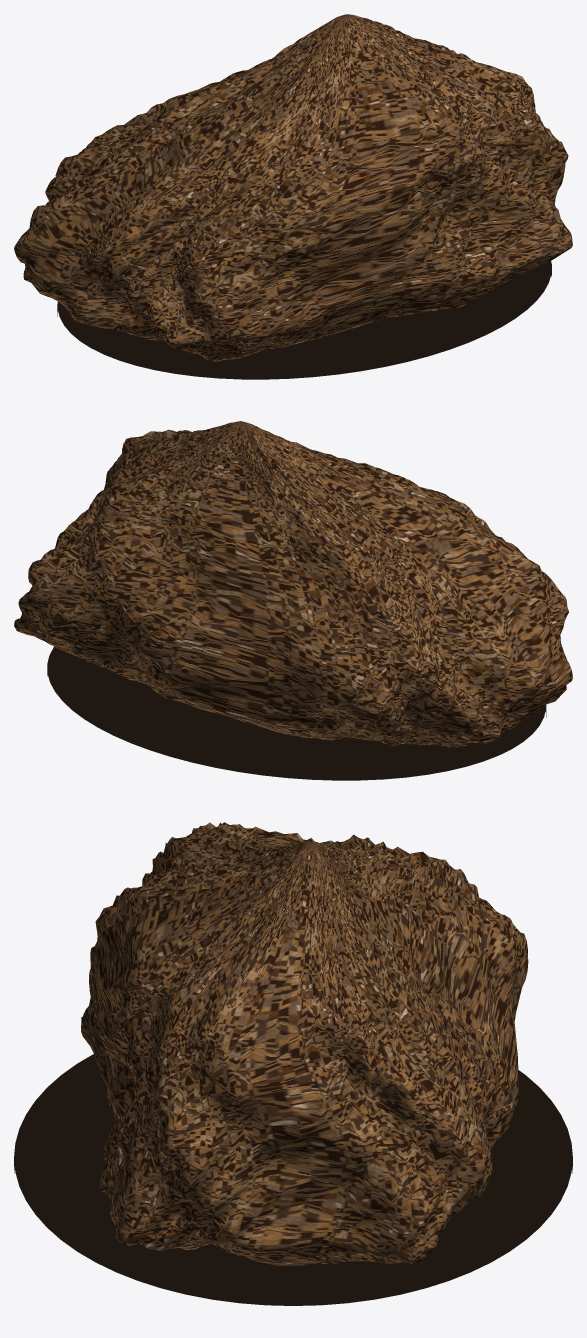
File: lingstone-concept-09-v19.glb
3 views of the same model, one above another, from view 1: azimuth 30°, elevation 25°; view 2: azimuth 150°, elevation 25°; view 3: azimuth 270°, elevation 25° (orthographic). The views are drawn at different scales.
Parts seen in each view (by area): view 1: XY-CONCEPT-009 concept stone, Concept display plinth; view 2: XY-CONCEPT-009 concept stone, Concept display plinth; view 3: XY-CONCEPT-009 concept stone, Concept display plinth.
Part boxes in pixels (x1=…): XY-CONCEPT-009 concept stone: x1=14, y1=14, x2=572, y2=362; Concept display plinth: x1=57, y1=261, x2=551, y2=379; XY-CONCEPT-009 concept stone: x1=14, y1=421, x2=572, y2=747; Concept display plinth: x1=47, y1=646, x2=546, y2=780; XY-CONCEPT-009 concept stone: x1=81, y1=822, x2=528, y2=1265; Concept display plinth: x1=14, y1=1054, x2=572, y2=1305.
Size of the model in its own units: 1.98 by 1.01 by 1.42.
Materials: 2 (1 with a texture image).
